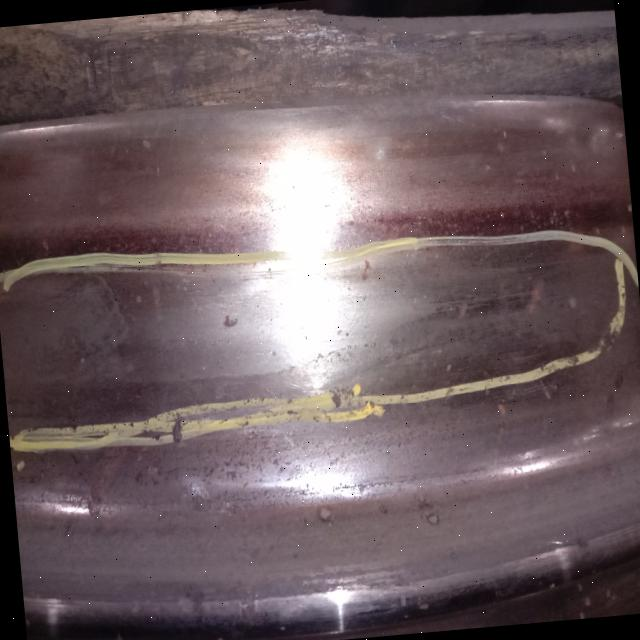flat: (374, 230, 620, 381), (145, 247, 384, 398), (1, 259, 143, 403)
